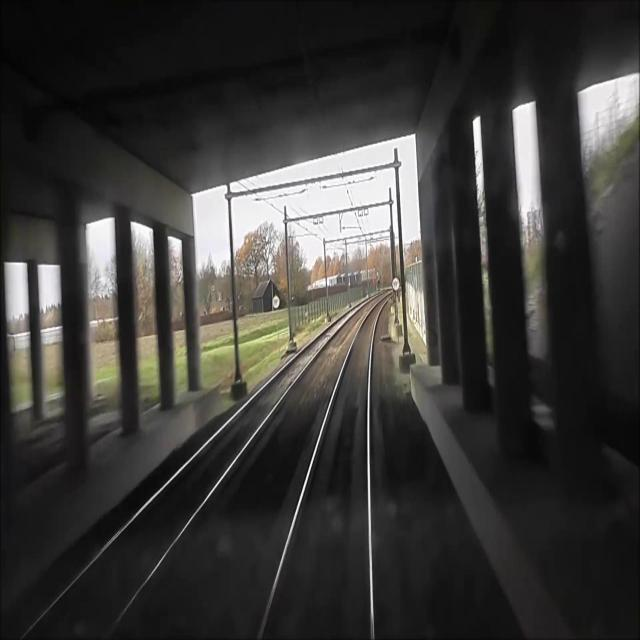rail-track: (25, 307, 357, 639), (262, 295, 389, 639)
